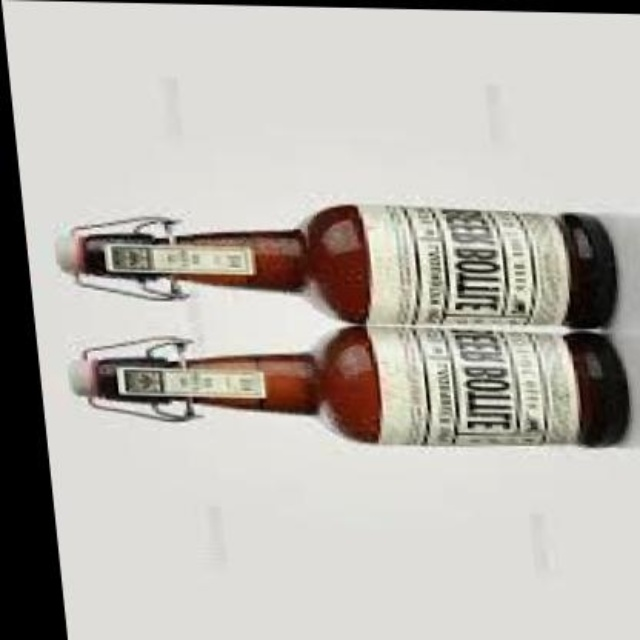trash: (66, 205, 615, 326), (71, 326, 629, 445)
